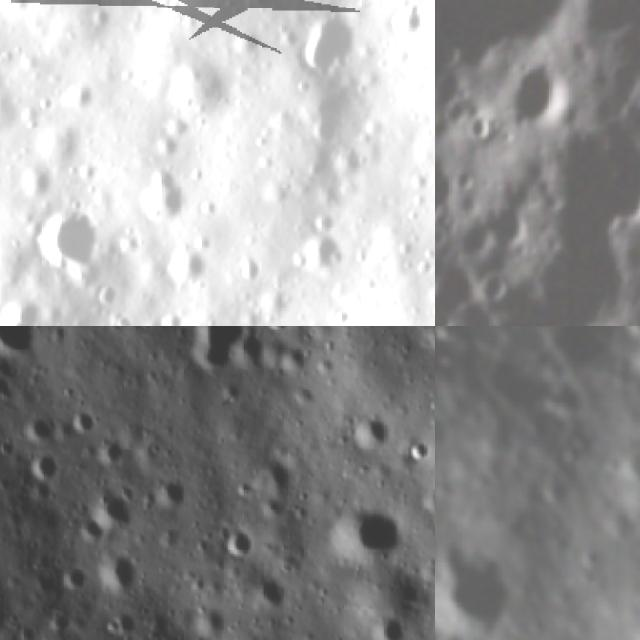crater: (435, 0, 572, 65), (281, 0, 375, 94), (30, 191, 124, 284), (289, 72, 383, 164), (438, 540, 514, 623), (501, 58, 577, 138), (136, 161, 210, 240), (334, 496, 407, 562), (292, 213, 358, 285), (193, 326, 261, 373), (578, 0, 640, 48), (435, 256, 479, 320), (85, 476, 137, 530), (483, 197, 532, 251), (97, 543, 145, 596), (389, 0, 435, 55), (227, 246, 279, 294), (352, 406, 400, 454), (171, 242, 218, 287), (225, 517, 267, 557), (255, 569, 298, 605), (20, 402, 60, 440), (0, 326, 51, 355), (160, 474, 198, 510), (370, 609, 413, 640), (482, 259, 510, 306), (462, 108, 496, 146), (60, 560, 94, 596), (27, 446, 64, 479), (435, 400, 455, 454), (69, 403, 104, 432), (0, 0, 42, 24), (409, 431, 435, 465), (269, 326, 303, 334)
